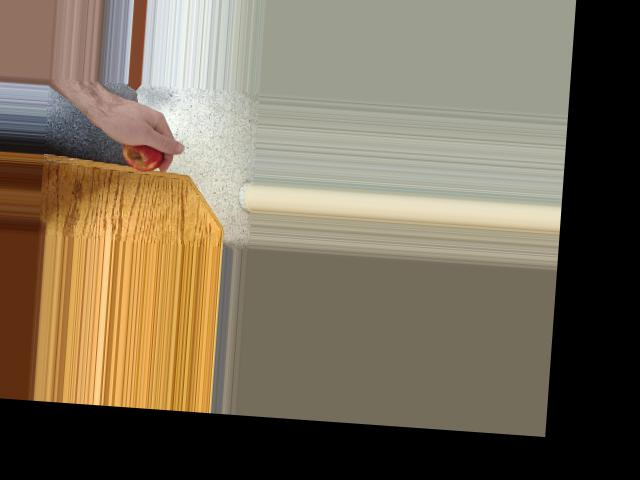apple: (115, 122, 167, 175)
